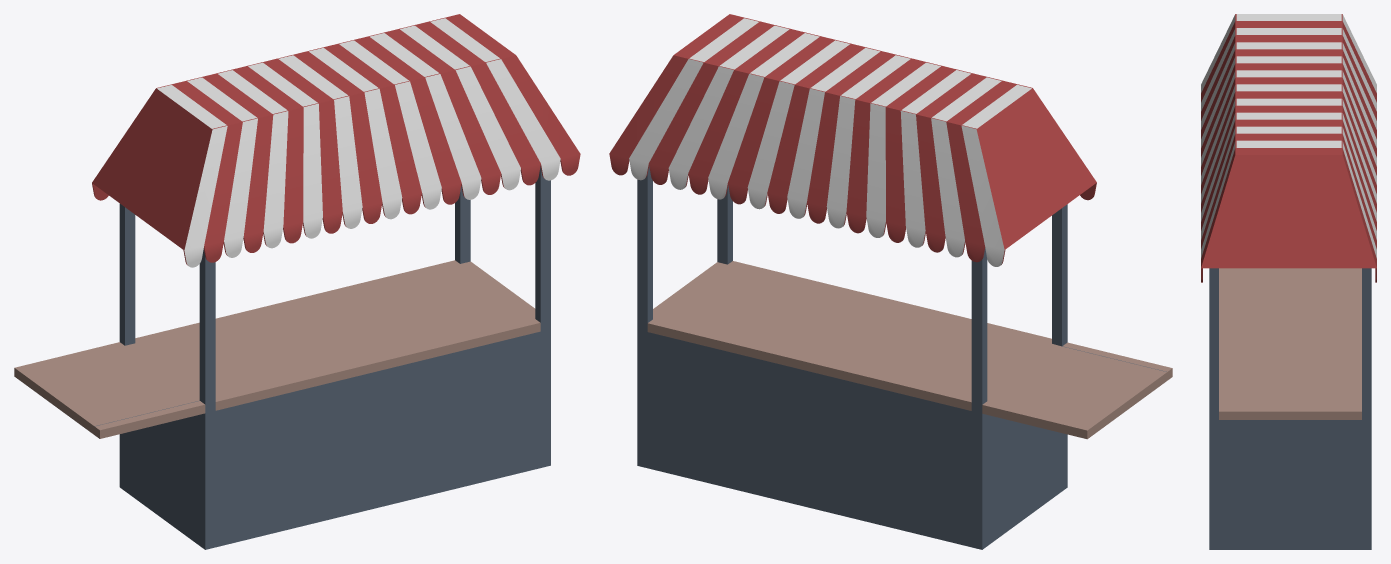
The model's file is delivery.fbx.
3 renders of one model, left to right at view 1: azimuth 30°, elevation 25°; view 2: azimuth 150°, elevation 25°; view 3: azimuth 270°, elevation 25°, orthographic. The views are drawn at different scales.
Visible parts, largest first — view 1: pCube3; view 2: pCube3; view 3: pCube3.
Boxes of the visible parts, bbox=[...] form: pCube3: bbox=[14, 14, 580, 549]; pCube3: bbox=[609, 14, 1172, 549]; pCube3: bbox=[1201, 14, 1376, 549].
Bounding box in the file's own units: 5.8 × 4.71 × 1.95.
